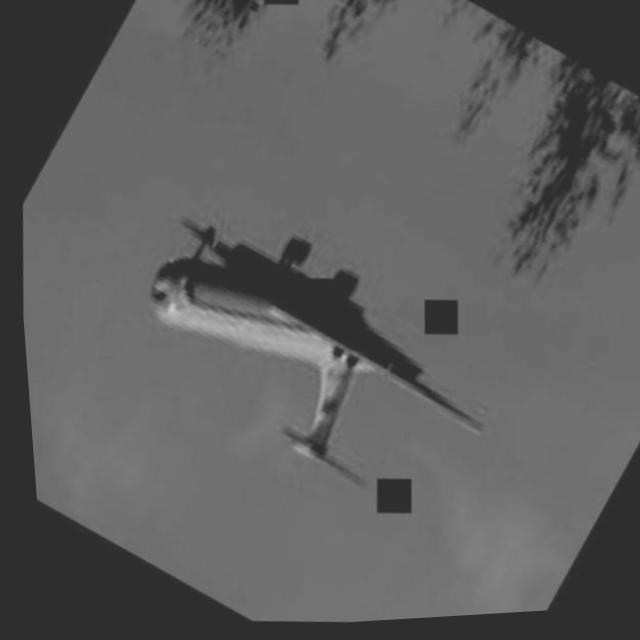aeroplane: (122, 206, 491, 504)
